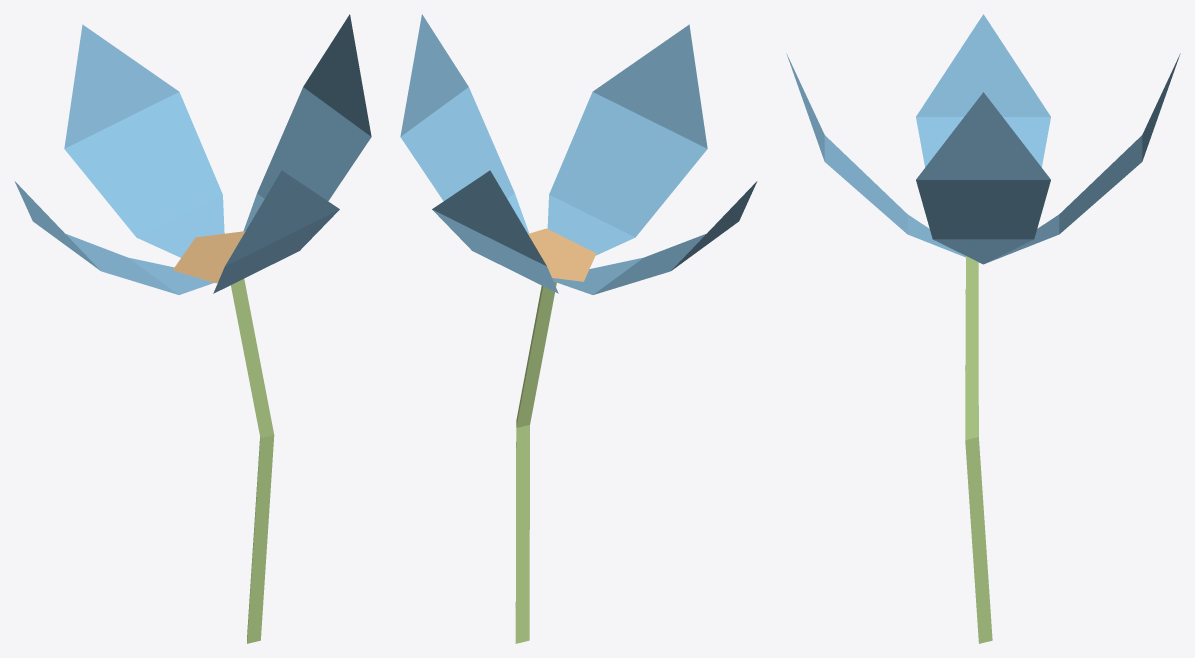
Rendered from Flower_a_TwoS_02.fbx.
3 renders of one model, left to right at view 1: azimuth 30°, elevation 25°; view 2: azimuth 150°, elevation 25°; view 3: azimuth 270°, elevation 25°, orthographic.
Visible parts, largest first — view 1: Flower_a_TwoS_02; view 2: Flower_a_TwoS_02; view 3: Flower_a_TwoS_02.
Part boxes in pixels (left/top/right/bottom): Flower_a_TwoS_02: left=14, top=14, right=371, bottom=643; Flower_a_TwoS_02: left=400, top=14, right=757, bottom=643; Flower_a_TwoS_02: left=786, top=14, right=1180, bottom=643.
Size of the model in its own units: 41.99 by 72.05 by 43.2.
